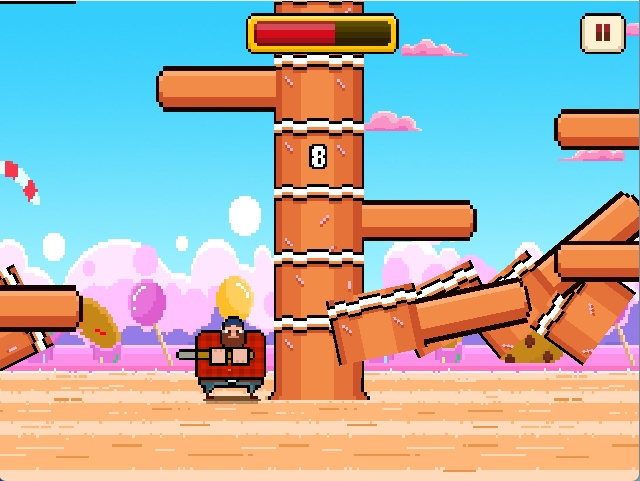left_obs: (154, 61, 285, 117)
right_obs: (353, 191, 481, 245)
timberman: (175, 311, 274, 408)
